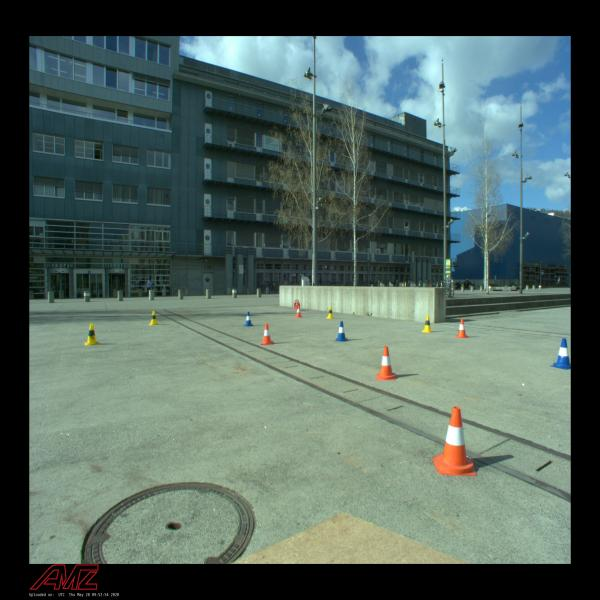blue_cone: (550, 338, 570, 369), (334, 321, 350, 342), (244, 312, 254, 326)
orange_cone: (432, 407, 477, 476), (376, 346, 397, 381), (260, 323, 274, 345), (456, 319, 468, 338), (294, 305, 303, 318)
yellow_cone: (84, 324, 100, 346), (421, 315, 433, 333), (326, 306, 335, 319), (150, 311, 158, 325)
